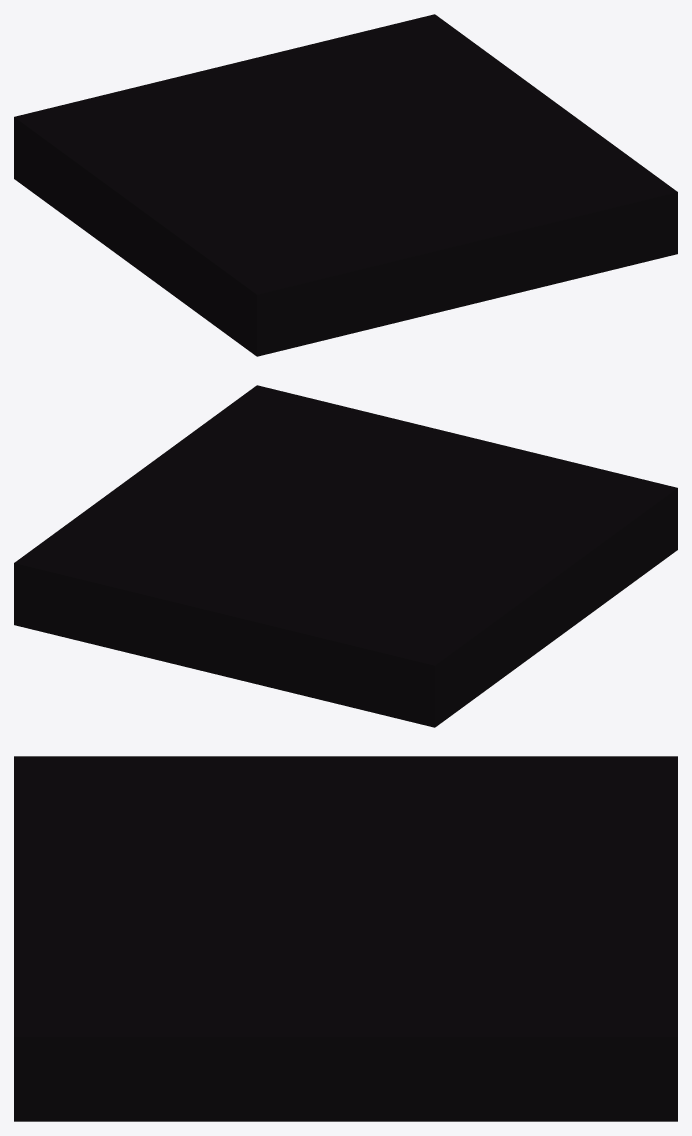
File: dalek-ship.glb
3 renders of one model, top to bottom at view 1: azimuth 30°, elevation 25°; view 2: azimuth 150°, elevation 25°; view 3: azimuth 270°, elevation 25°, orthographic. The views are drawn at different scales.
Parts seen in each view (by area): view 1: Object_4; view 2: Object_4; view 3: Object_4.
Boxes of the visible parts, <box> form: Object_4: <box>14,14,677,356</box>; Object_4: <box>14,385,677,727</box>; Object_4: <box>14,756,677,1121</box>.
Size of the model in its own units: 35.94 by 5.14 by 35.94.
1 material, 1 textured.
